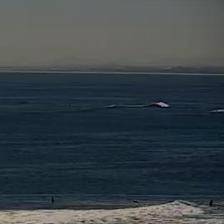surfer: (209, 200, 214, 206), (51, 197, 55, 203), (132, 200, 137, 203)
